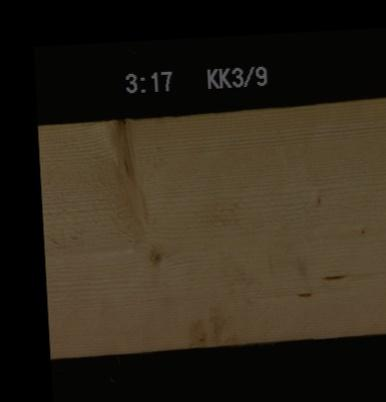small_knot: (145, 240, 164, 270)
